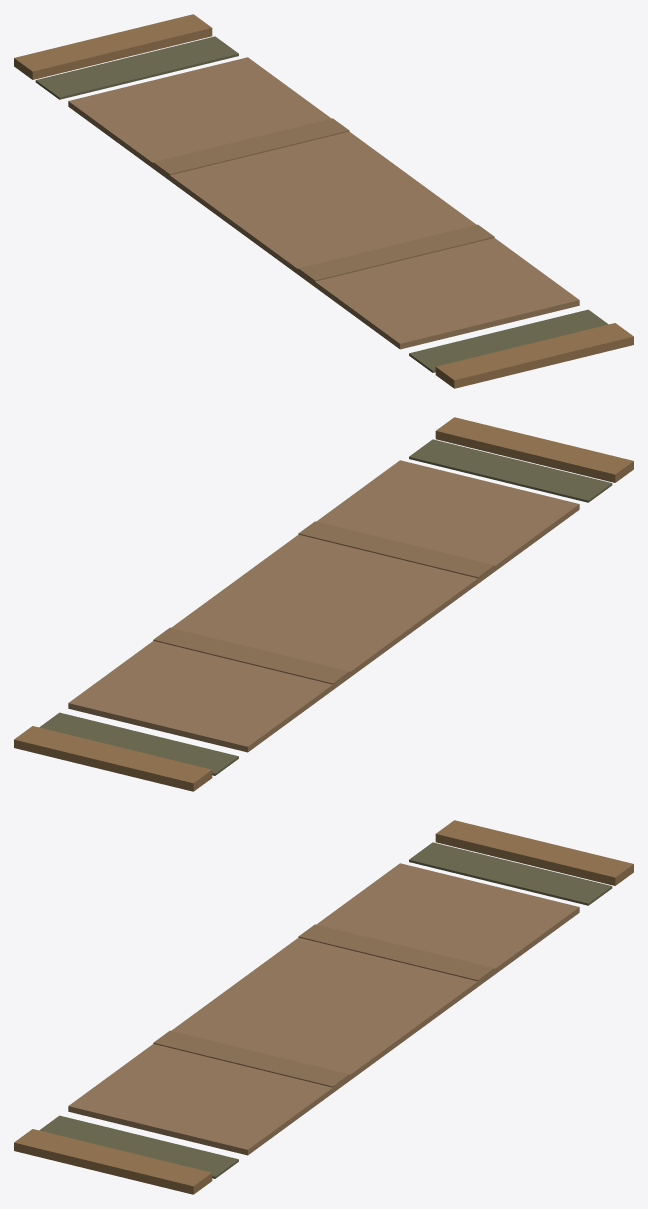
File: road-ultra.glb
The picture shows the model from 3 angles, top to bottom: view 1: azimuth 30°, elevation 25°; view 2: azimuth 150°, elevation 25°; view 3: azimuth 330°, elevation 25°; orthographic projection.
Parts seen in each view (by area): view 1: road; view 2: road; view 3: road.
Boxes of the visible parts, bbox=[...] form: road: bbox=[14, 14, 633, 388]; road: bbox=[14, 417, 633, 791]; road: bbox=[14, 820, 633, 1194].
Bounding box in the file's own units: 1 × 0.0475 × 4.25.
